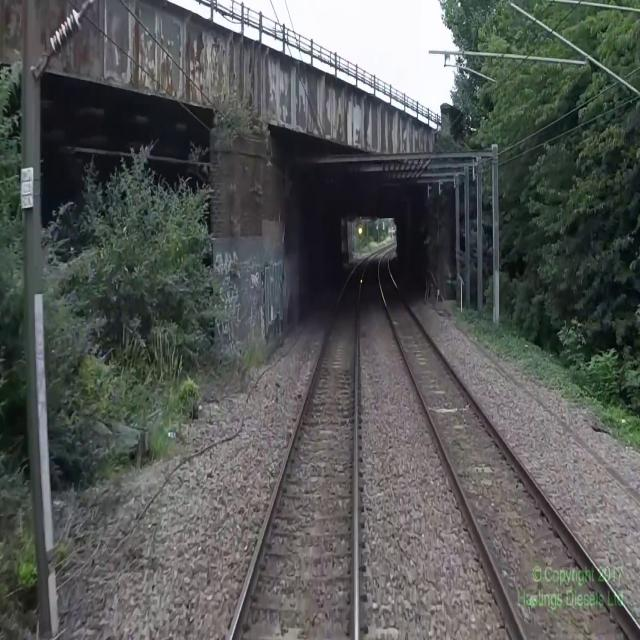rail-track: (379, 247, 640, 639), (233, 249, 383, 639)
